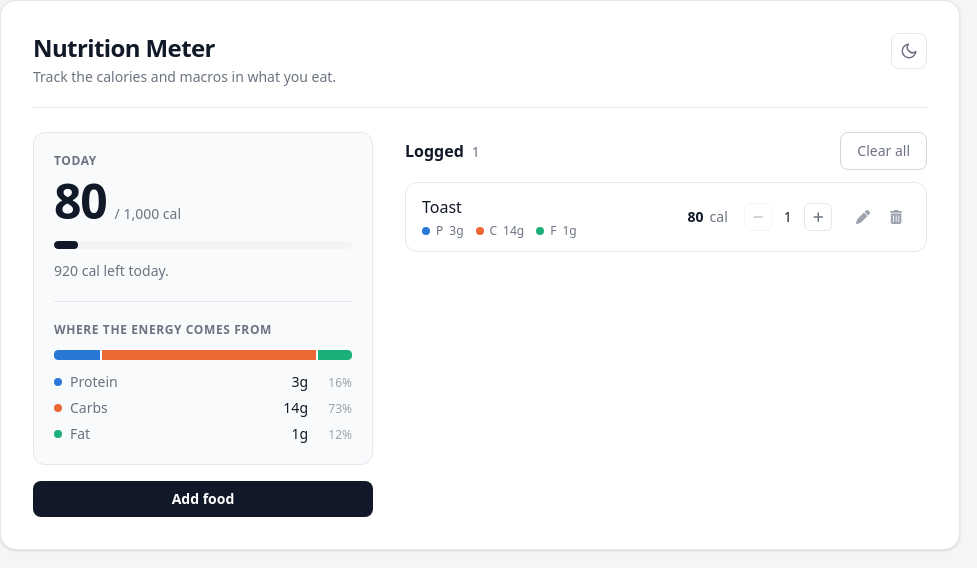
quantity › scales the figures on the row
Check: the text "80" in the row of "Toast" is shown, box 688,207 -> 704,226
Click the button named "increase quantity of toast".
click(818, 217)  # box 804,203 -> 832,231
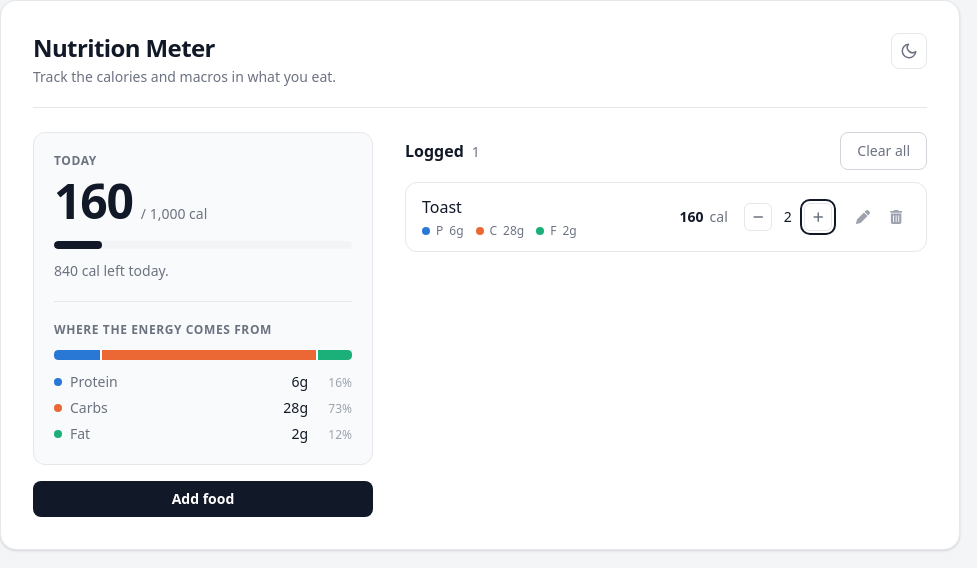
Check: the text "160" in the row of "Toast" is shown, box 680,207 -> 704,226
